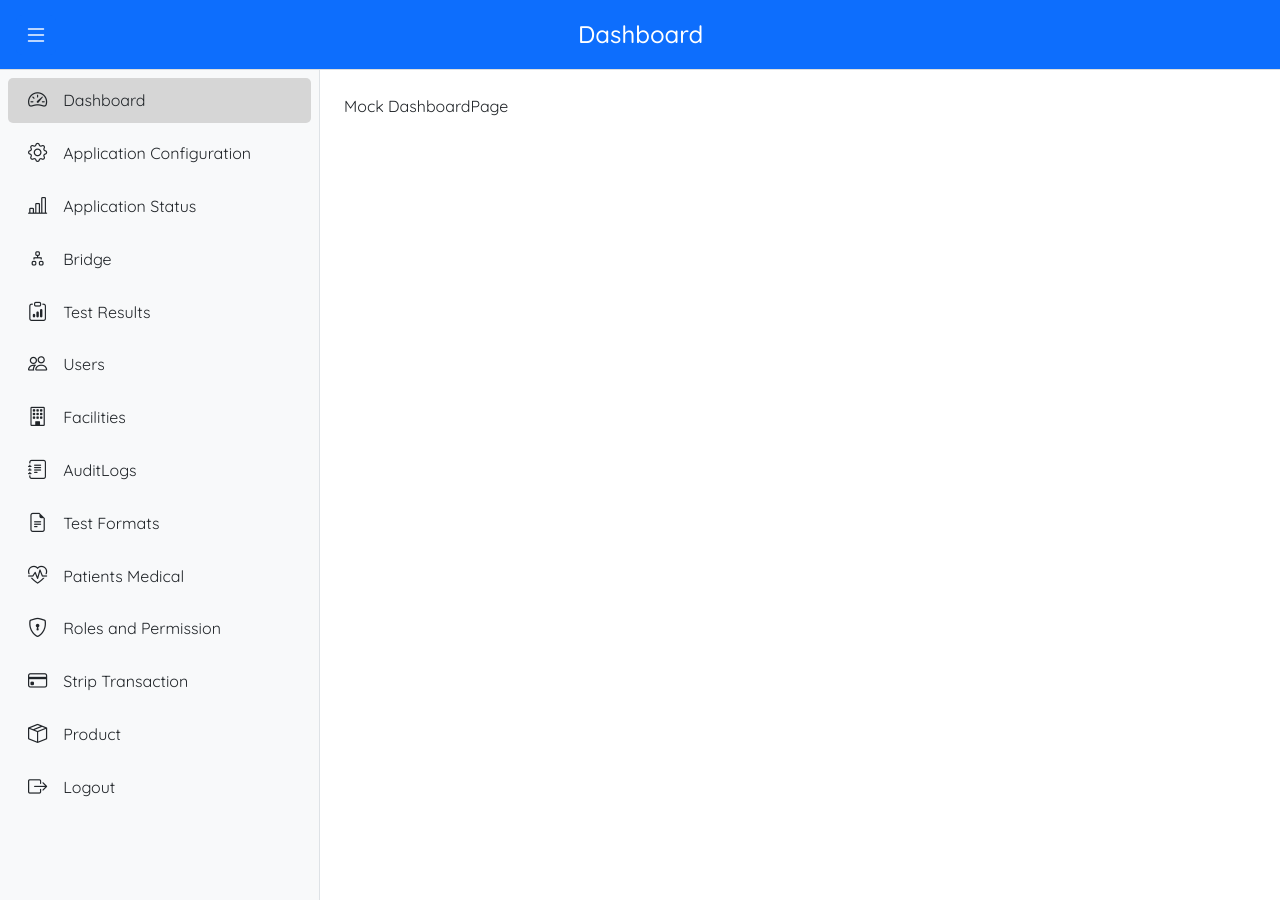
Test: DashboardLayout › Navigation › renders Application Status page when nav item is clicked
Click the button with test id "nav-app-status" at (112, 206), box [28,192,196,220]
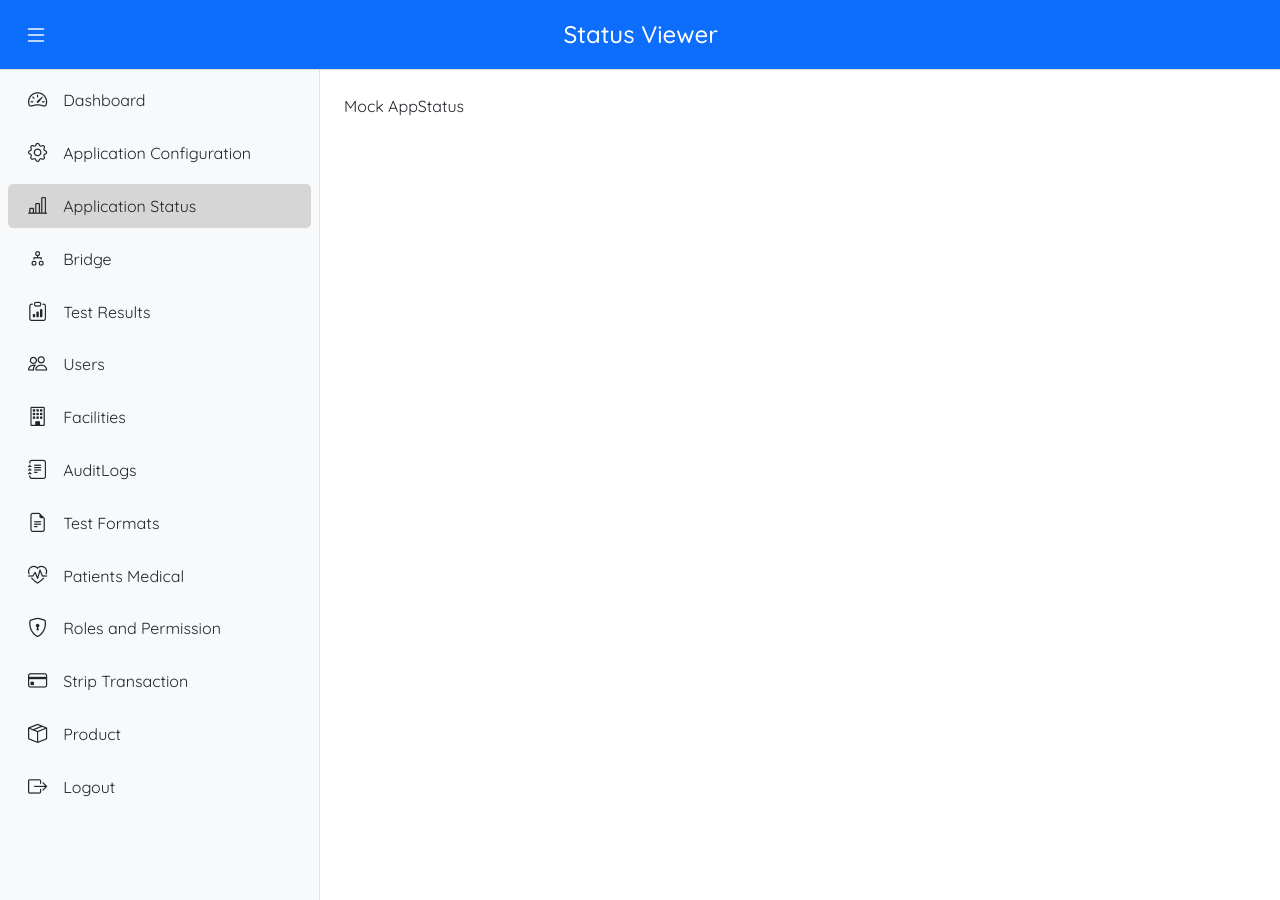
Expected: the text "Mock AppStatus" is shown, [344,96,464,116]
